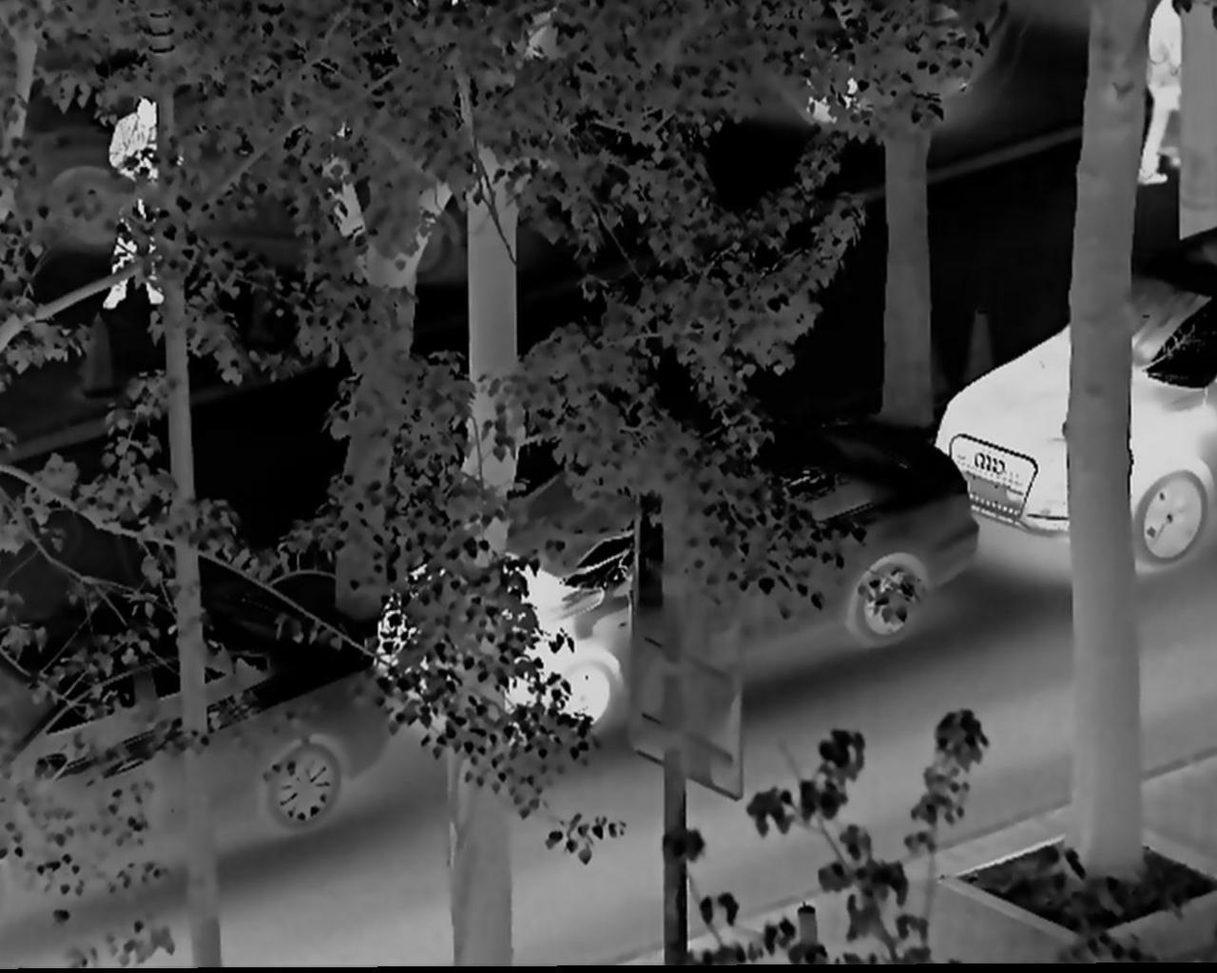person: (97, 96, 172, 315), (1133, 2, 1196, 185)
